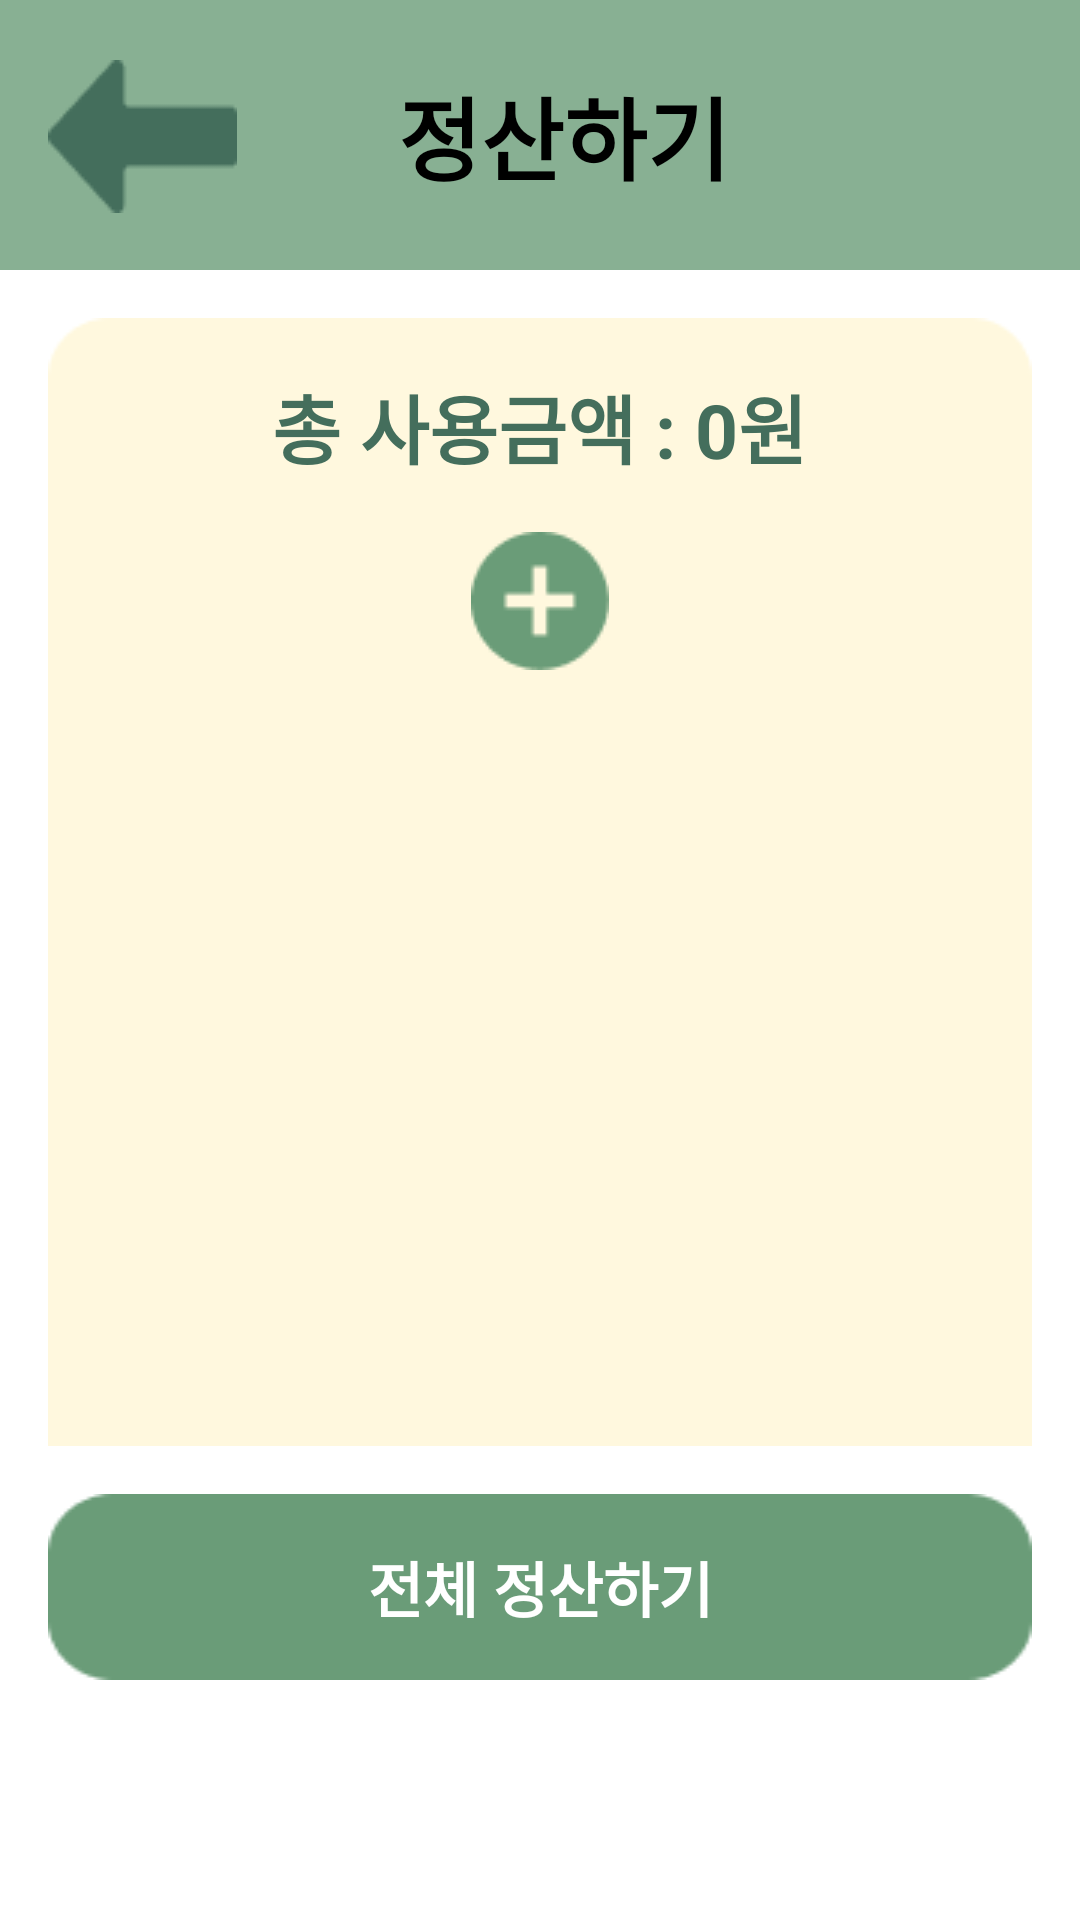

Icon bounding boxes for this 1080x1920 phone screenshot, format (x1, y1, x2, y2):
back 버튼: (48, 60, 237, 213)
지출 추가: (471, 532, 609, 670)
